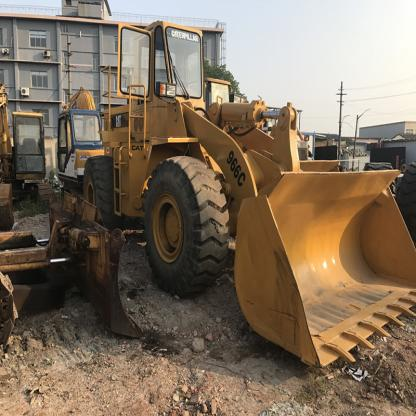bull_dozer/loader/grader: (77, 12, 415, 383)
